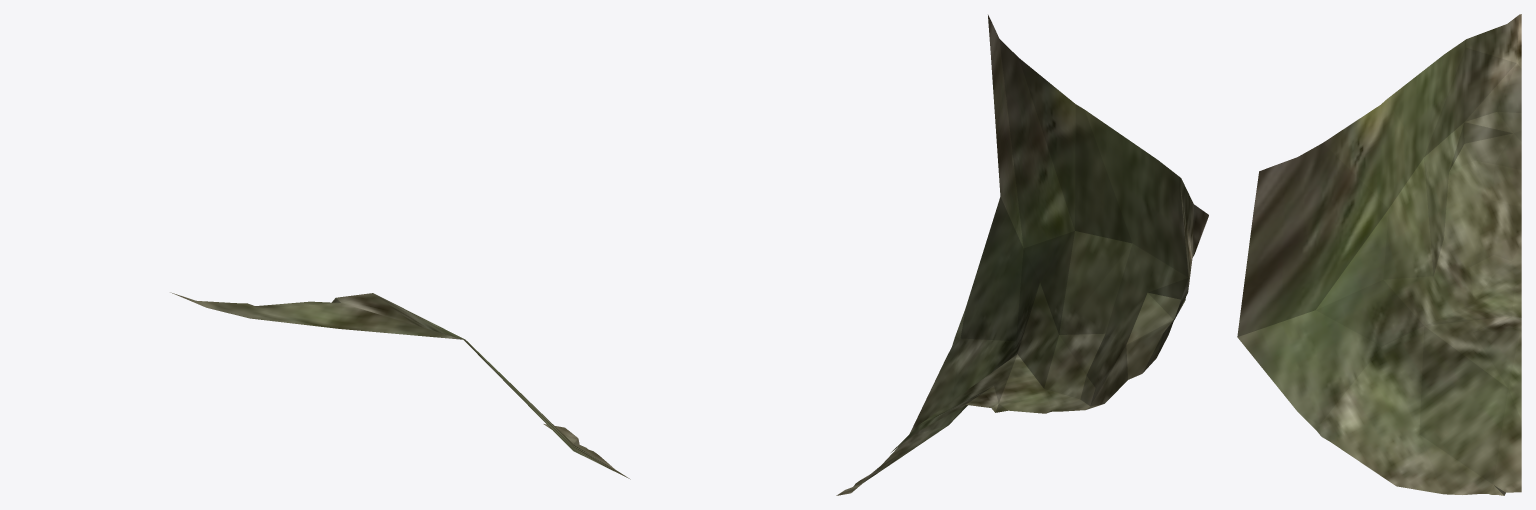
3 renders of one model, left to right at view 1: azimuth 30°, elevation 25°; view 2: azimuth 150°, elevation 25°; view 3: azimuth 270°, elevation 25°, orthographic. The views are drawn at different scales.
Size of the model in its own units: 1.27 by 1.22 by 0.9691.
1 material, 1 textured.
